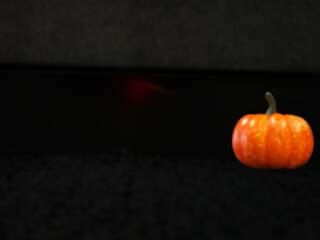Pumpkin: (230, 90, 316, 170)
